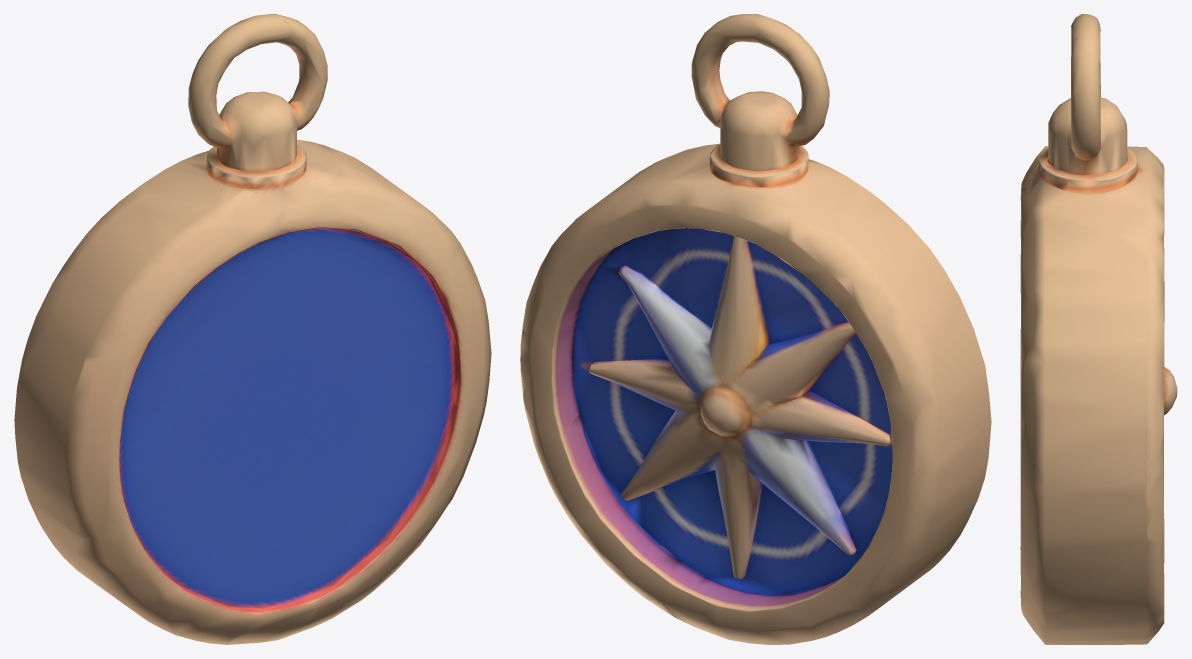
3 renders of one model, left to right at view 1: azimuth 30°, elevation 25°; view 2: azimuth 150°, elevation 25°; view 3: azimuth 270°, elevation 25°, orthographic.
Parts seen in each view (by area): view 1: pendant-wayfinder; view 2: pendant-wayfinder; view 3: pendant-wayfinder.
Part boxes in pixels (x1,y1,x2,y2): pendant-wayfinder: [14, 14, 491, 644]; pendant-wayfinder: [520, 14, 991, 644]; pendant-wayfinder: [1020, 14, 1177, 644].
Bounding box in the file's own units: 0.1478 × 0.2016 × 0.0476.
1 material, 1 textured.
